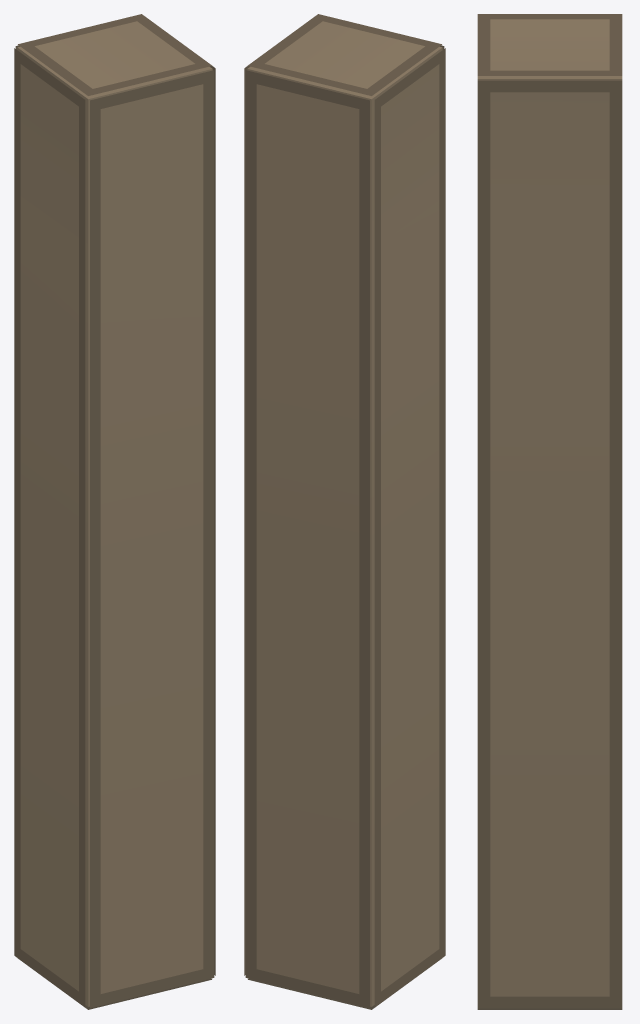
File: key-2.glb
3 renders of one model, left to right at view 1: azimuth 30°, elevation 25°; view 2: azimuth 150°, elevation 25°; view 3: azimuth 270°, elevation 25°, orthographic. The views are drawn at different scales.
Visible parts, largest first — view 1: key-2; view 2: key-2; view 3: key-2.
Part boxes in pixels (x1,y1,x2,y2): key-2: (14,14,215,1009); key-2: (244,14,445,1009); key-2: (477,14,622,1009).
Size of the model in its own units: 0.018 by 0.1207 by 0.0178.
